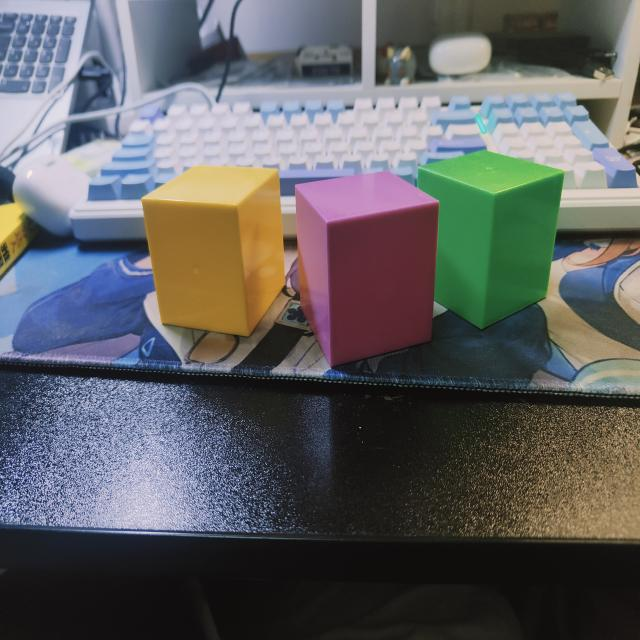green: (419, 150, 566, 336)
pink: (293, 172, 441, 372)
yellow: (141, 165, 286, 342)
